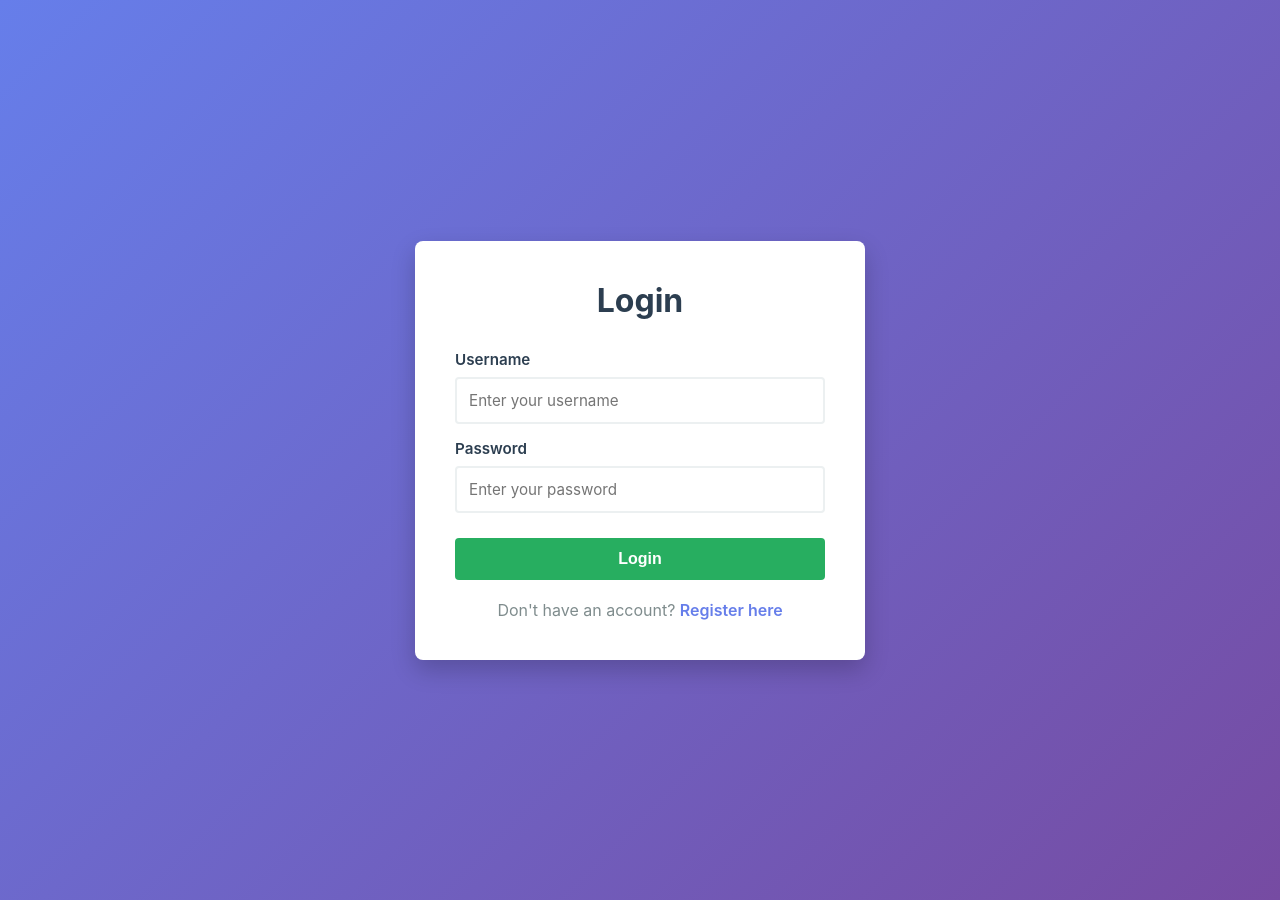
Scenario: Login Component › shows error message on failed login
Type "testuser" into the field labelled "Username".
click(640, 400); type("testuser")  # box top-left (455, 376), bottom-right (825, 424)
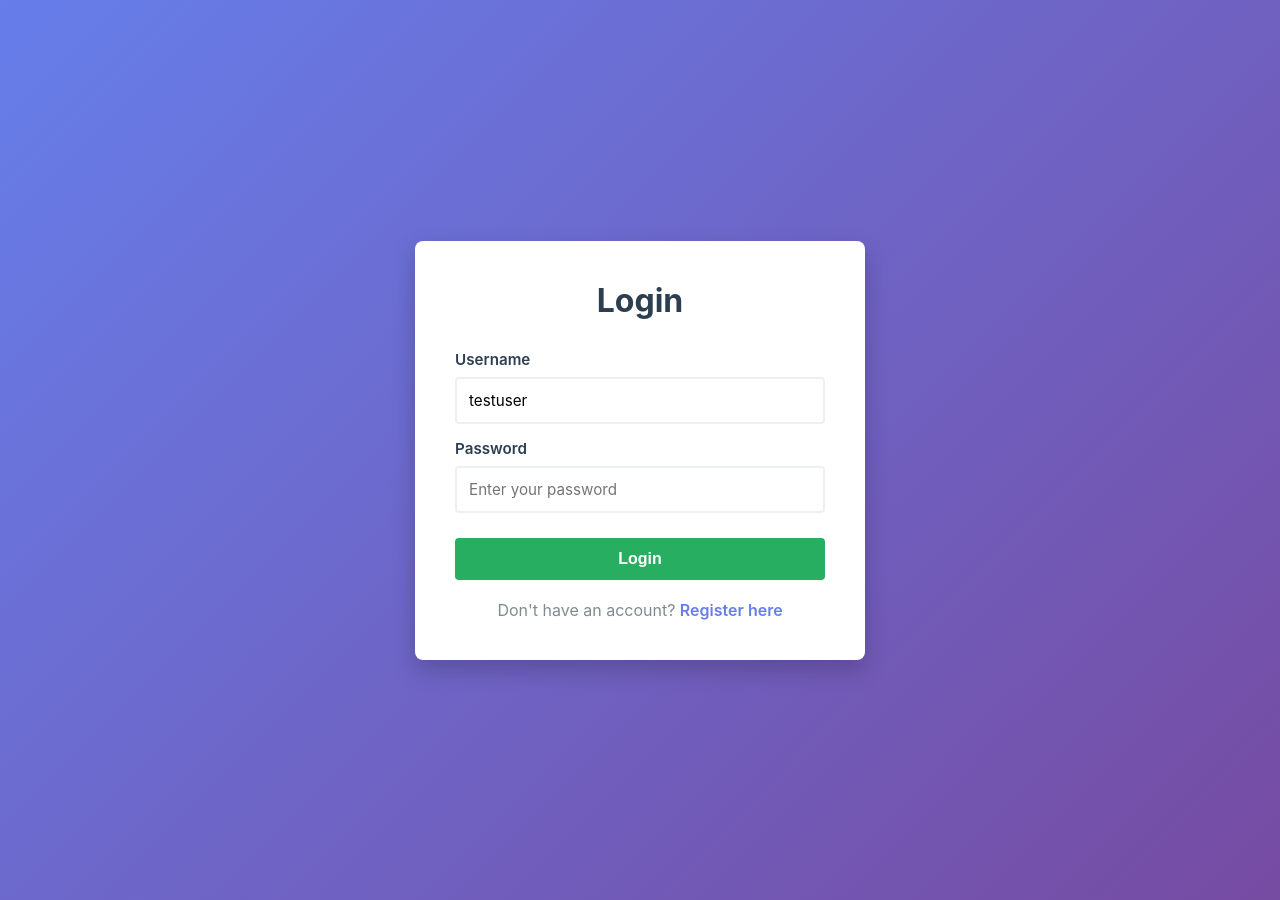
Type "wrongpassword" into the password field labelled "Password".
click(640, 489); type("wrongpassword")  # box top-left (455, 466), bottom-right (825, 512)
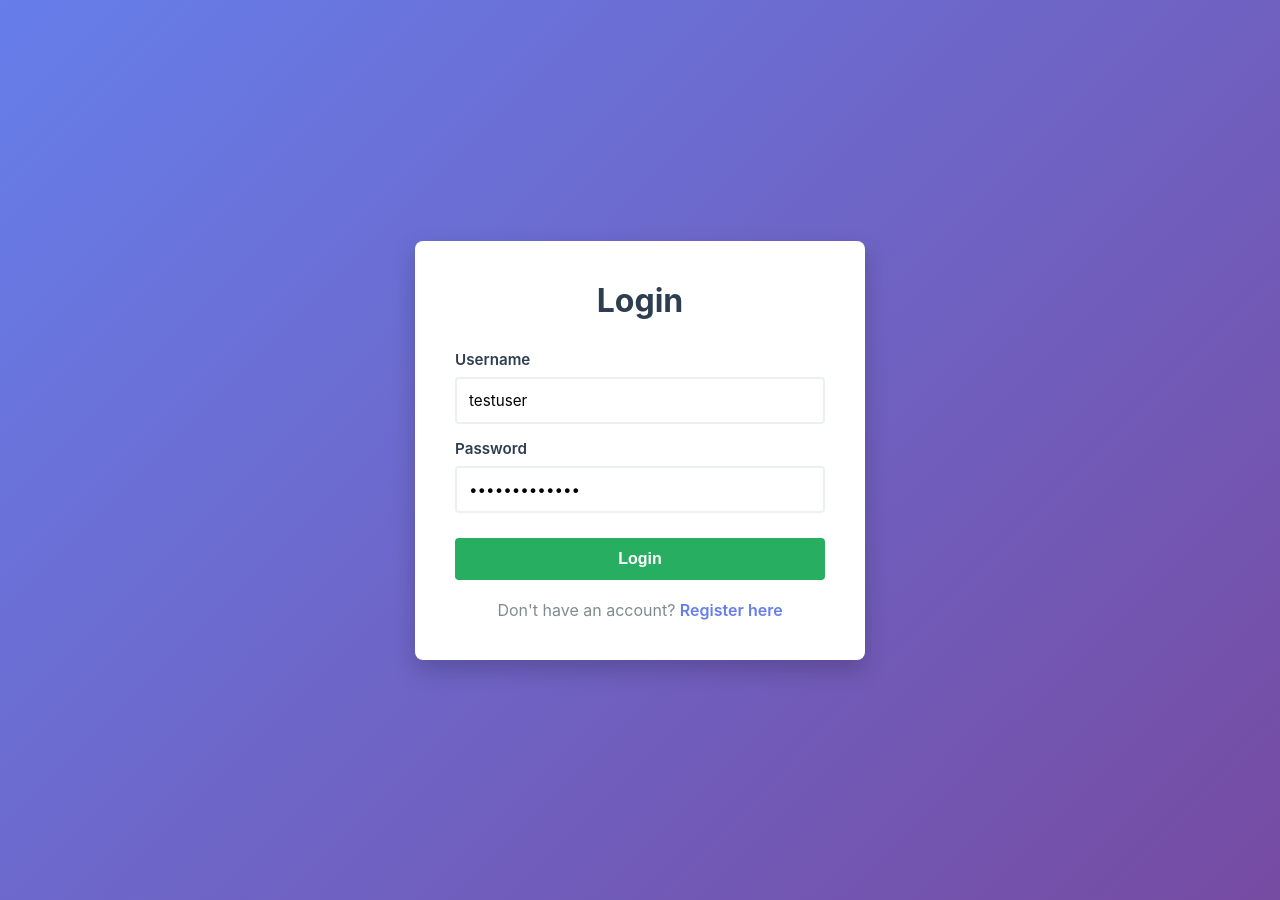
Click the button "Login".
click(640, 558)  # box top-left (455, 538), bottom-right (825, 580)
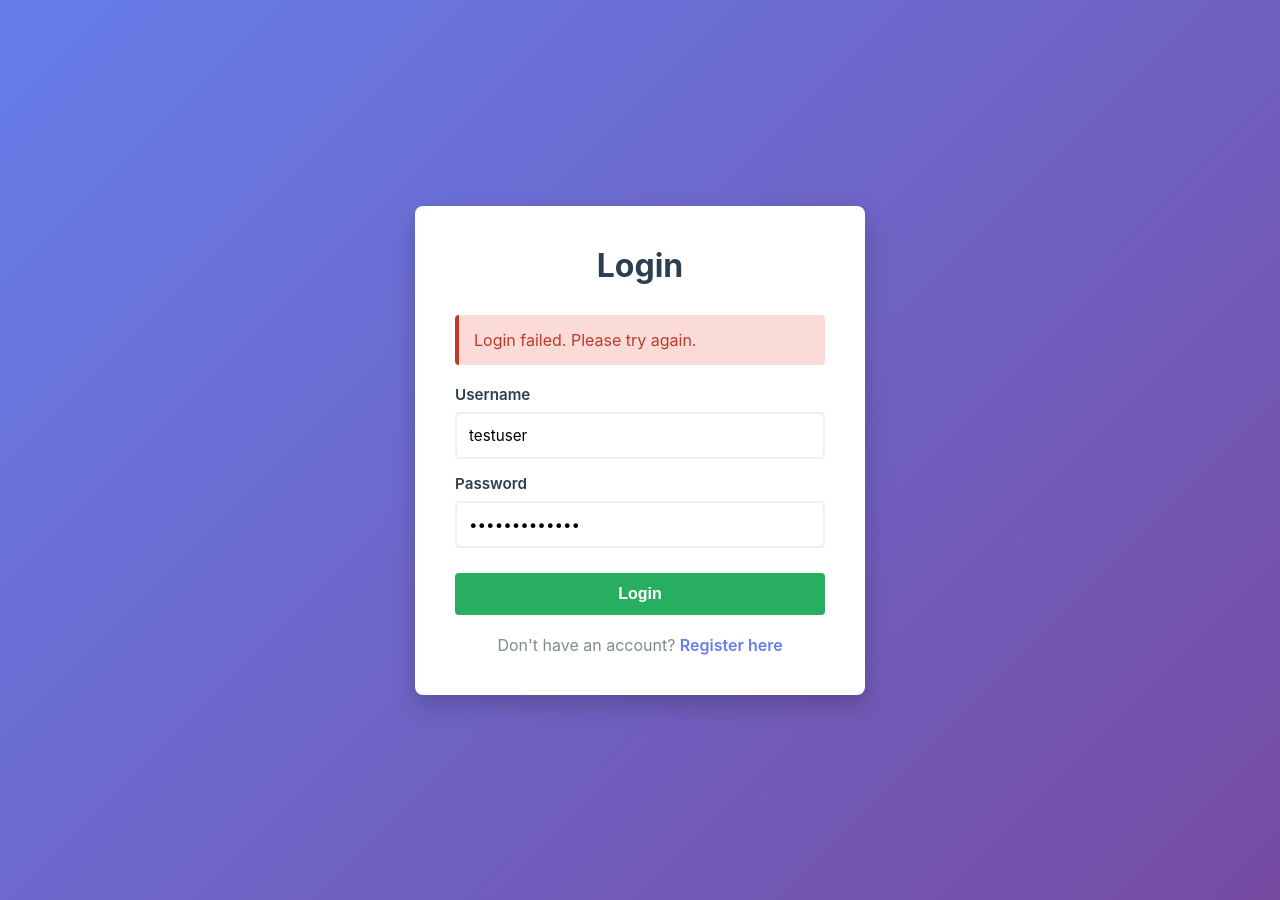
expect the text "Login failed. Please try again." is shown: met, box top-left (455, 314), bottom-right (825, 364)
